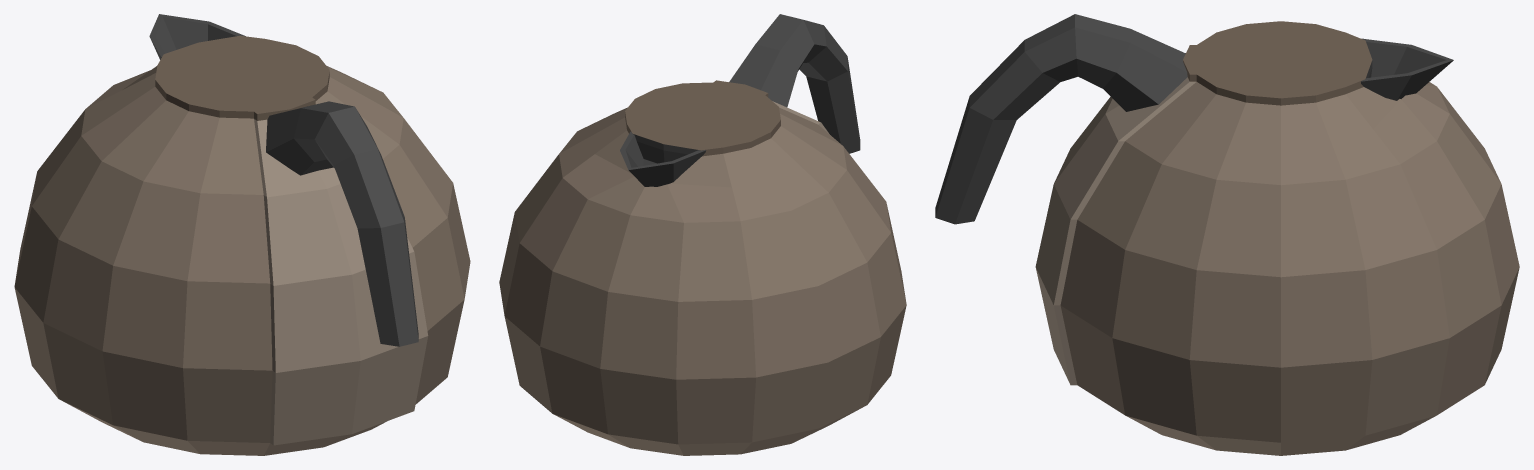
The model's file is Coffee_02.fbx.
3 renders of one model, left to right at view 1: azimuth 30°, elevation 25°; view 2: azimuth 150°, elevation 25°; view 3: azimuth 270°, elevation 25°, orthographic. The views are drawn at different scales.
Visible parts, largest first — view 1: Coffee_02; view 2: Coffee_02; view 3: Coffee_02.
Boxes of the visible parts, x1,y1,x2,y2 form: Coffee_02: (14, 14, 470, 455); Coffee_02: (499, 14, 906, 455); Coffee_02: (935, 14, 1519, 455).
Bounding box in the file's own units: 23.39 × 19.68 × 28.64.
